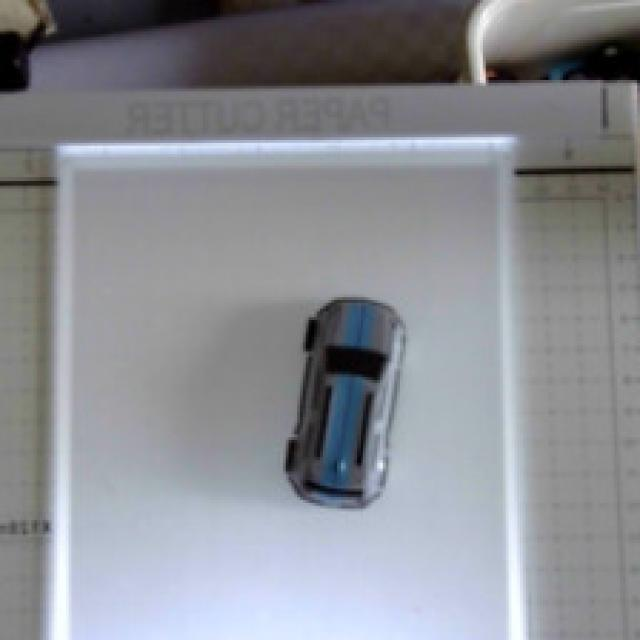Grey Car: (234, 250, 451, 551)
